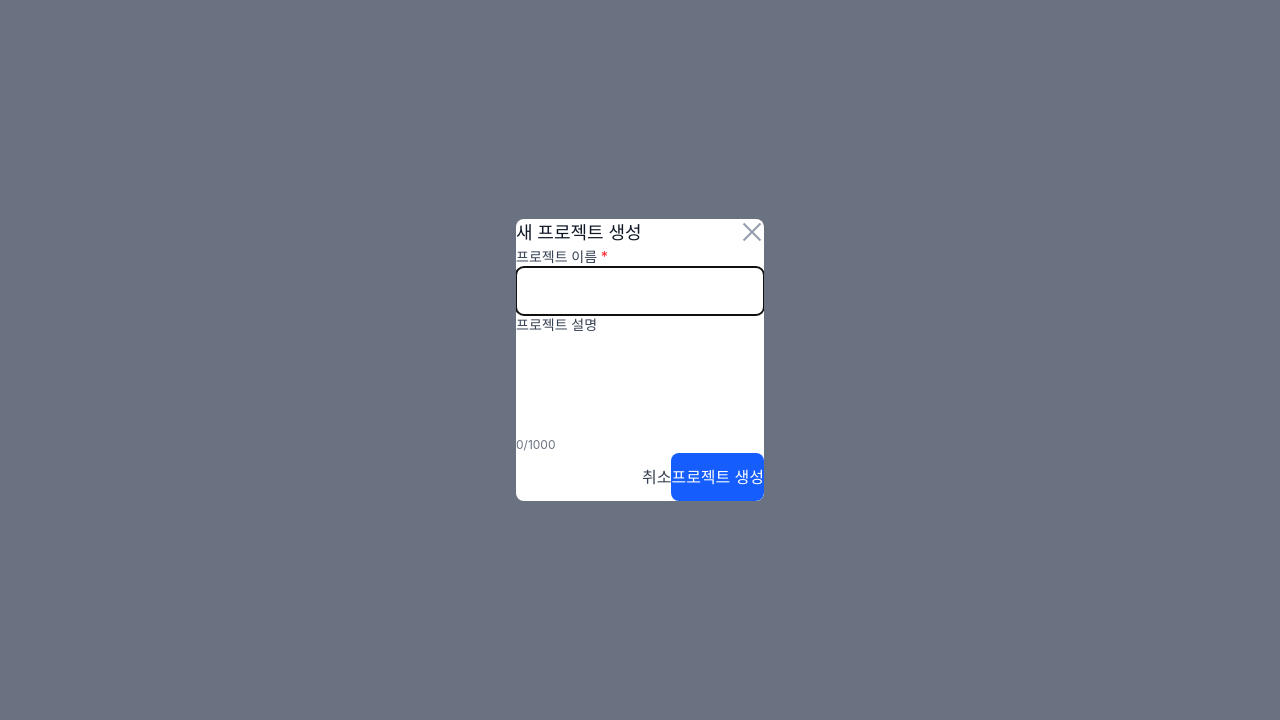
Test: CreateProjectModal › validates required name on submit
Click the button "프로젝트 생성". click: (718, 477)
box: top-left (671, 453), bottom-right (764, 501)
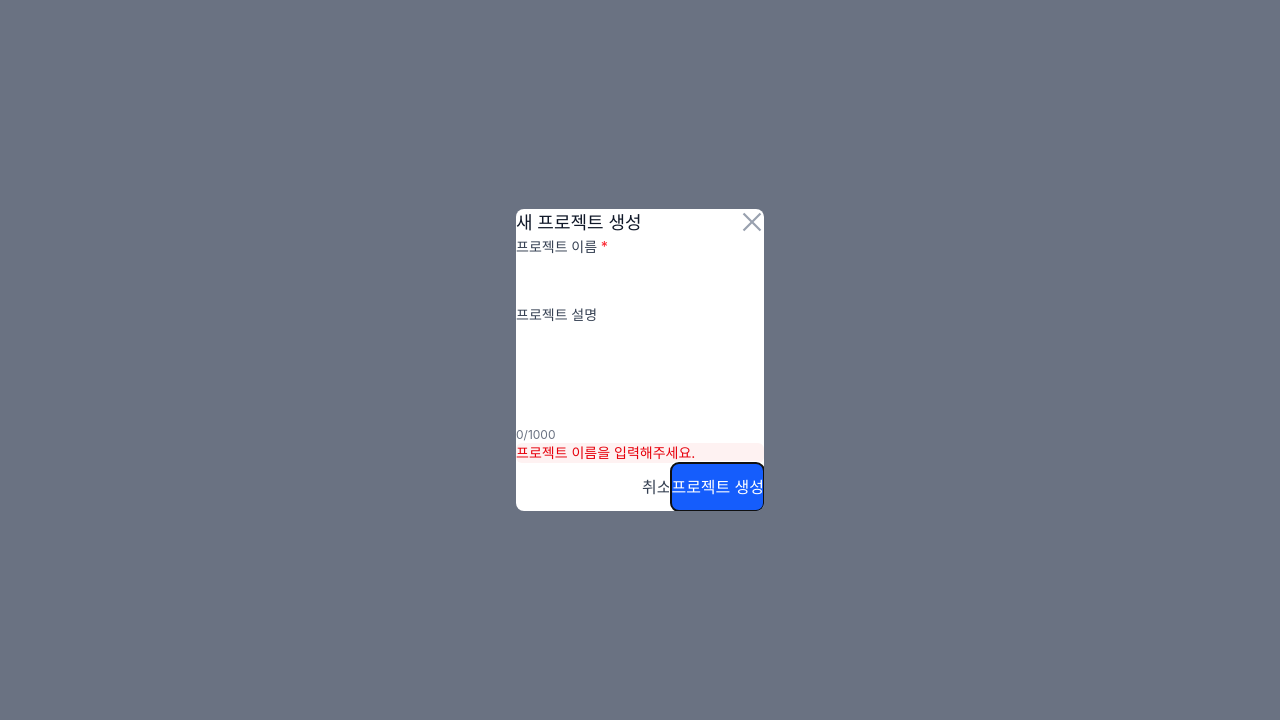
Expected: the text "프로젝트 이름을 입력해주세요." is shown, top-left (516, 444), bottom-right (695, 461)
